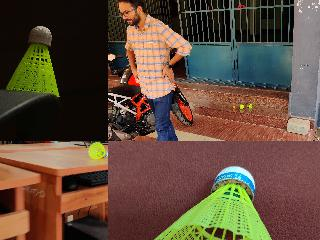shuttlecock: (148, 167, 287, 239), (5, 26, 59, 96), (88, 141, 107, 159), (246, 104, 252, 108)
